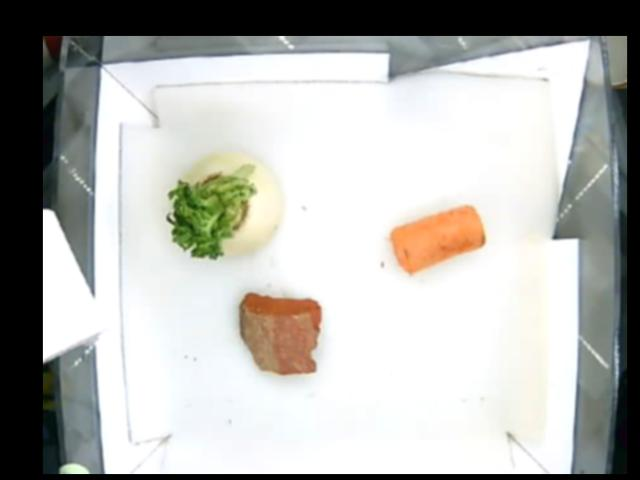Brisk: (237, 288, 318, 376)
Carrot: (393, 204, 486, 272)
Mooli: (165, 149, 285, 262)
